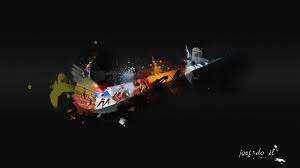nike: (48, 32, 261, 129)
